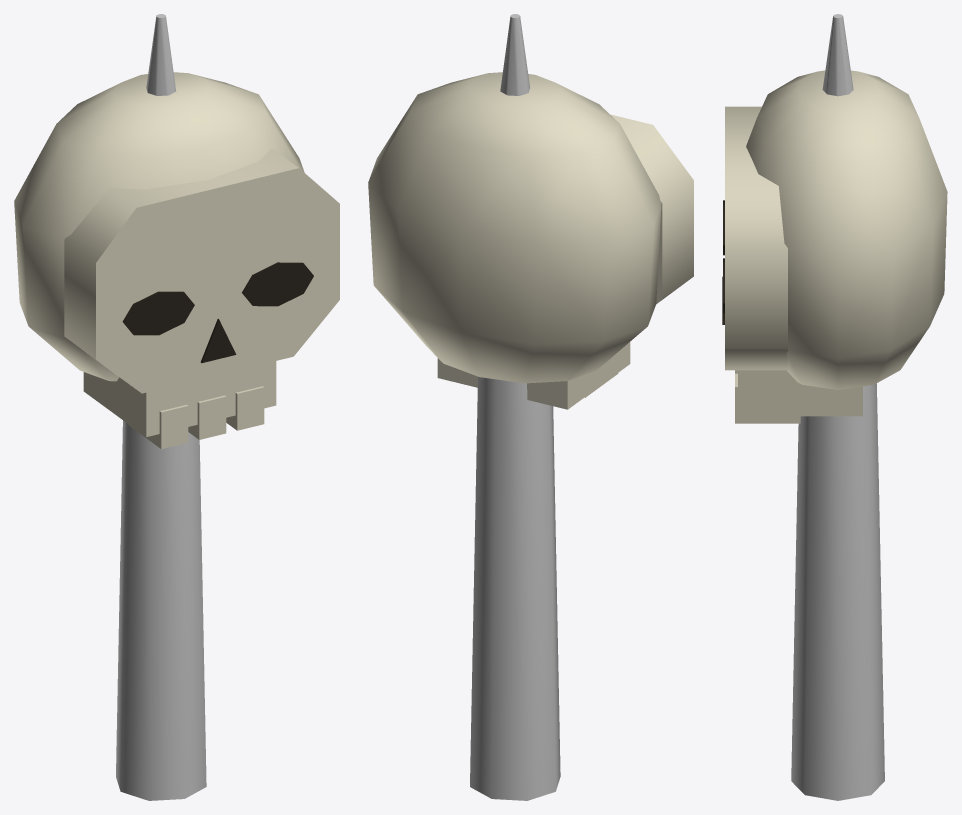
The model's file is skullspike.obj.
3 views of the same model, side by side, from view 1: azimuth 30°, elevation 25°; view 2: azimuth 150°, elevation 25°; view 3: azimuth 270°, elevation 25° (orthographic).
Visible parts, largest first — view 1: source_component_002, source_component_000, source_component_001, source_component_003, source_component_004, source_component_005, source_component_007, source_component_009, source_component_008, source_component_006; view 2: source_component_001, source_component_000, source_component_002, source_component_003; view 3: source_component_001, source_component_000, source_component_002, source_component_003, source_component_009.
Part boxes in pixels (x1,y1,x2,y2): source_component_002: [64, 148, 339, 393]; source_component_000: [116, 14, 206, 800]; source_component_001: [14, 72, 304, 381]; source_component_003: [83, 361, 276, 437]; source_component_004: [122, 291, 194, 335]; source_component_005: [242, 262, 313, 306]; source_component_007: [129, 404, 188, 449]; source_component_009: [226, 386, 264, 430]; source_component_008: [188, 395, 226, 439]; source_component_006: [200, 319, 236, 362]; source_component_001: [368, 72, 661, 383]; source_component_000: [470, 14, 560, 800]; source_component_002: [610, 114, 693, 304]; source_component_003: [437, 342, 630, 409]; source_component_001: [746, 70, 947, 389]; source_component_000: [791, 14, 884, 800]; source_component_002: [725, 106, 787, 370]; source_component_003: [738, 370, 862, 416]; source_component_009: [735, 373, 800, 423].
Bounding box in the file's own units: 0.51 × 1.35 × 0.36.
